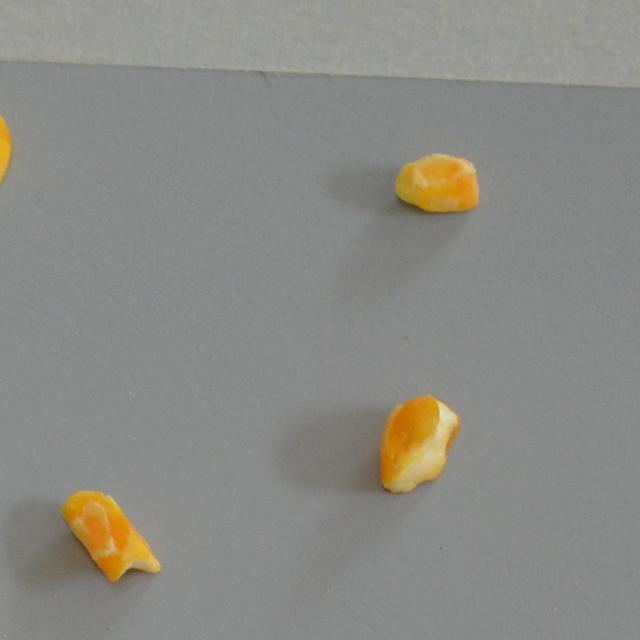pelicula: (372, 377, 457, 500), (56, 486, 164, 580), (394, 146, 478, 222), (0, 83, 20, 206)
